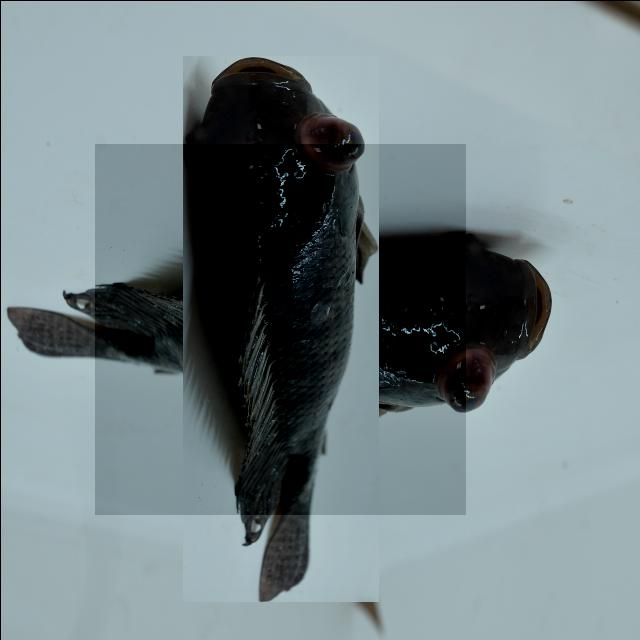streptococcus Disease: (94, 143, 465, 514)
